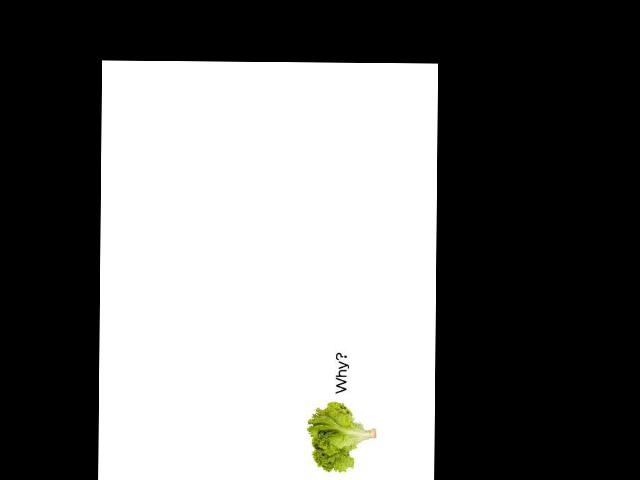lettuce: (300, 361, 382, 475)
